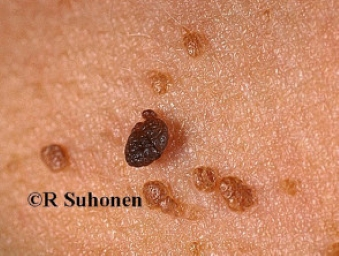seborrheic keratosis: (32, 86, 232, 184)
